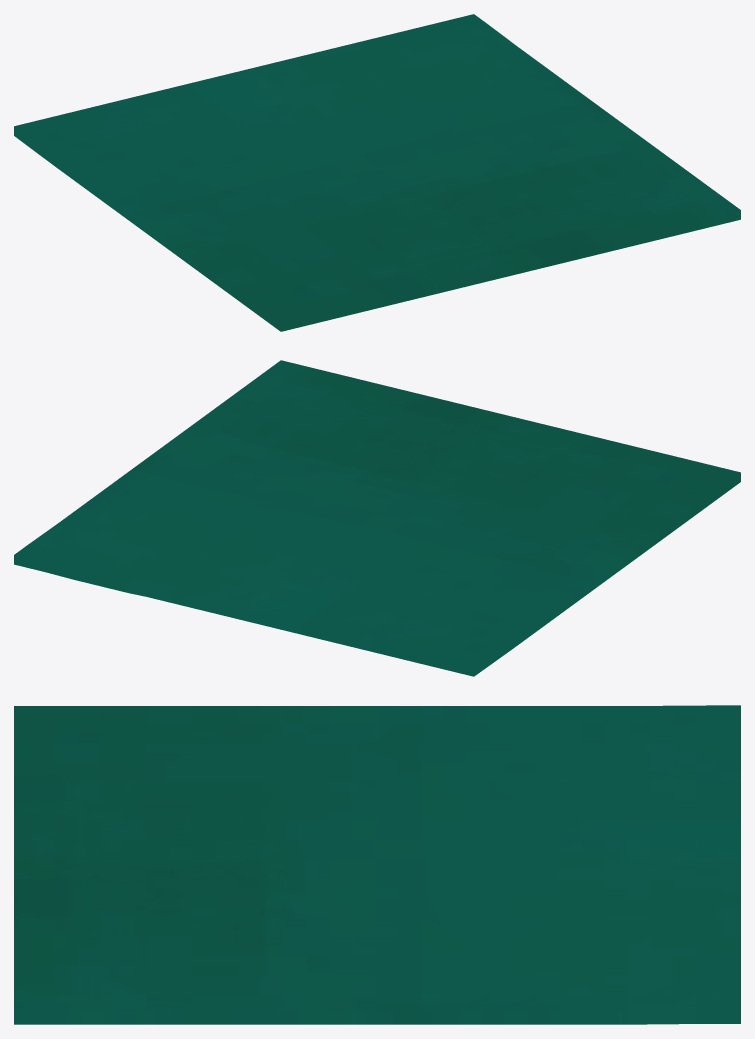
Rendered from z16-10470-25322-h0-yup-uvflip-v3-world.glb.
The picture shows the model from 3 angles, top to bottom: view 1: azimuth 30°, elevation 25°; view 2: azimuth 150°, elevation 25°; view 3: azimuth 270°, elevation 25°; orthographic projection. The views are drawn at different scales.
Bounding box in the file's own units: 483 × 10.24 × 485.
Materials: 1 (1 with a texture image).
